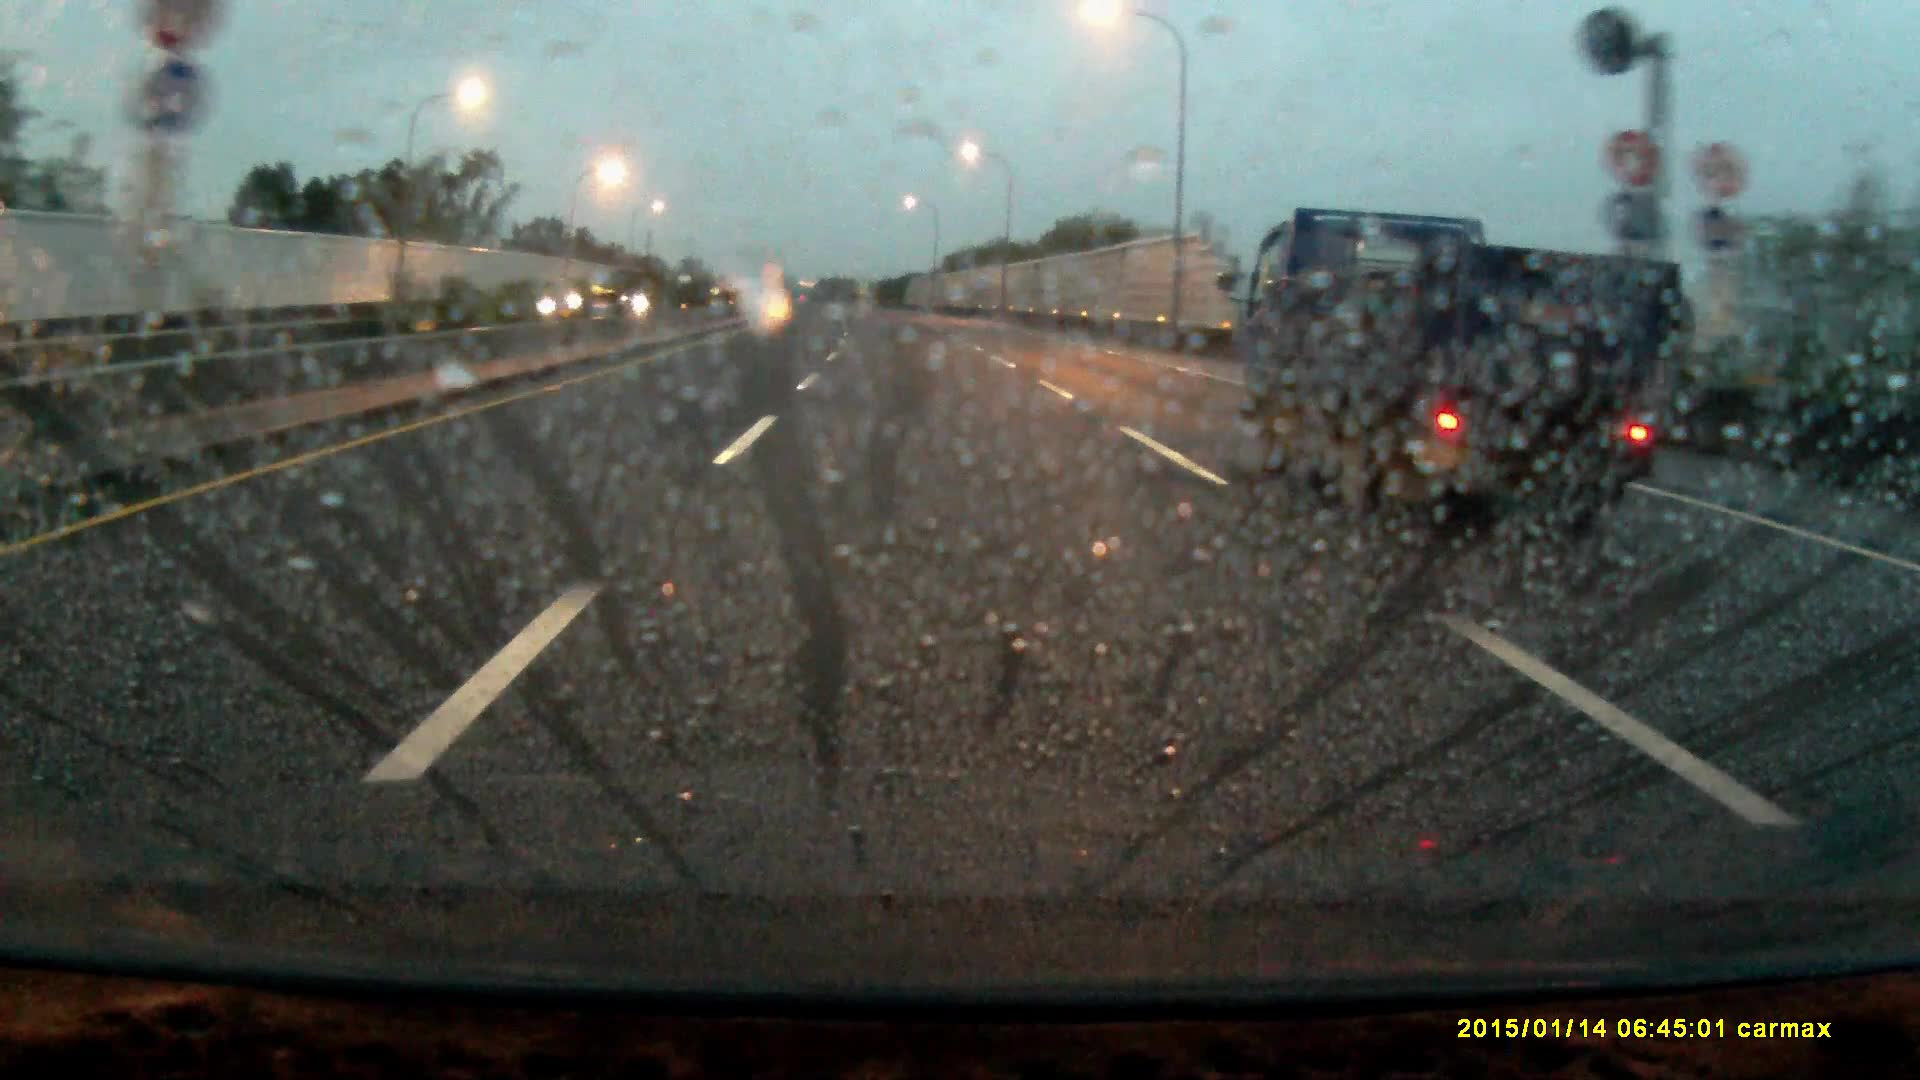vehicle: (1228, 202, 1702, 541)
